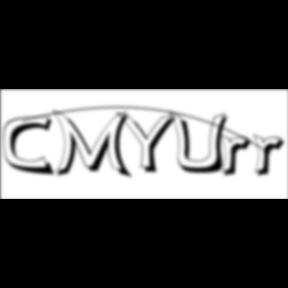C: (4, 115, 58, 178)
M: (52, 108, 136, 181)
U: (170, 110, 234, 176)
Y: (117, 110, 184, 176)
r: (220, 134, 258, 180)
